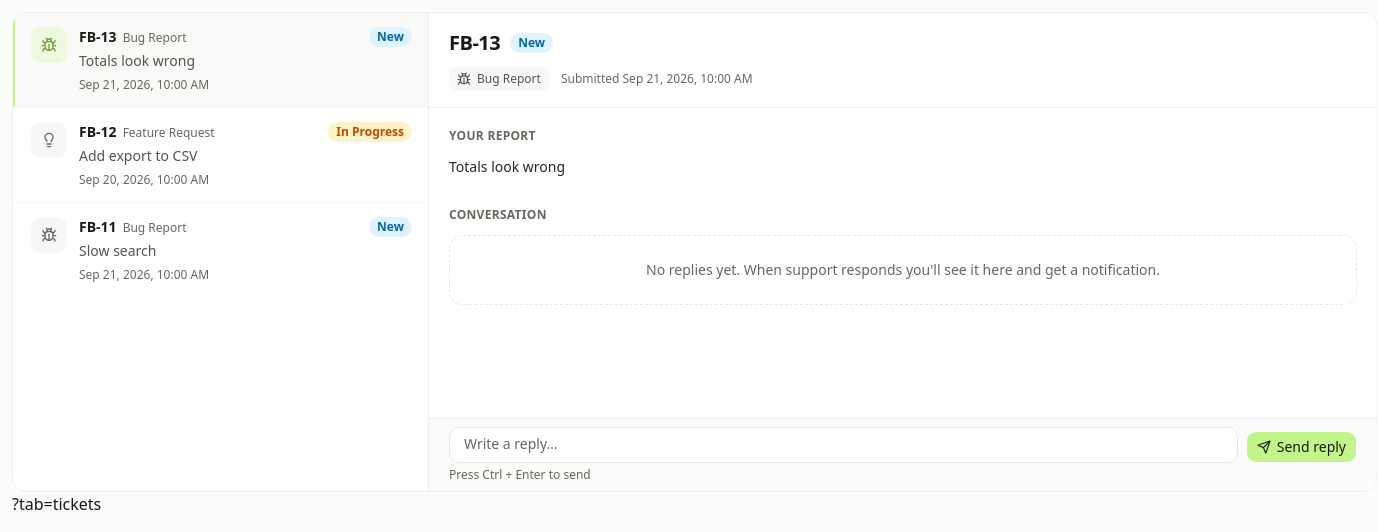
FeedbackTicketInbox on a wide screen › switches the conversation when another ticket is picked
The image size is (1378, 532).
Expected: the heading "FB-13" is shown, x1=449 y1=29 x2=500 y2=57
Click the button with aria-label "Open ticket FB-12" at (49, 140), box x1=13 y1=108 x2=428 y2=202
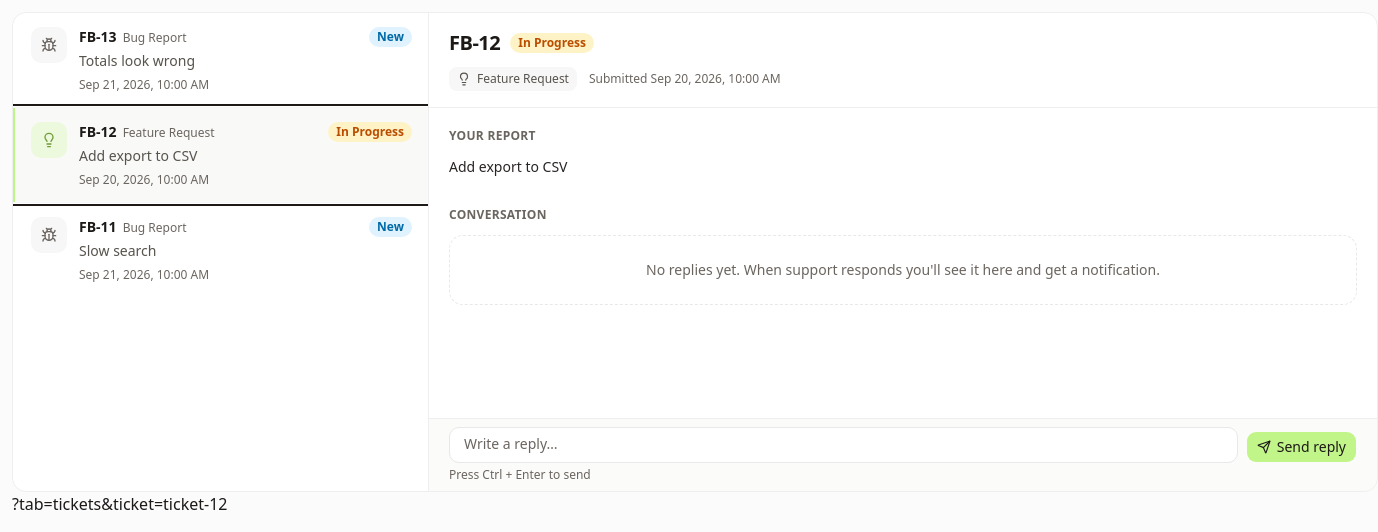
Now the heading "FB-12" is shown, box x1=449 y1=29 x2=500 y2=57
Now the text with test id "search" shows "ticket=ticket-12", box x1=12 y1=493 x2=228 y2=515
